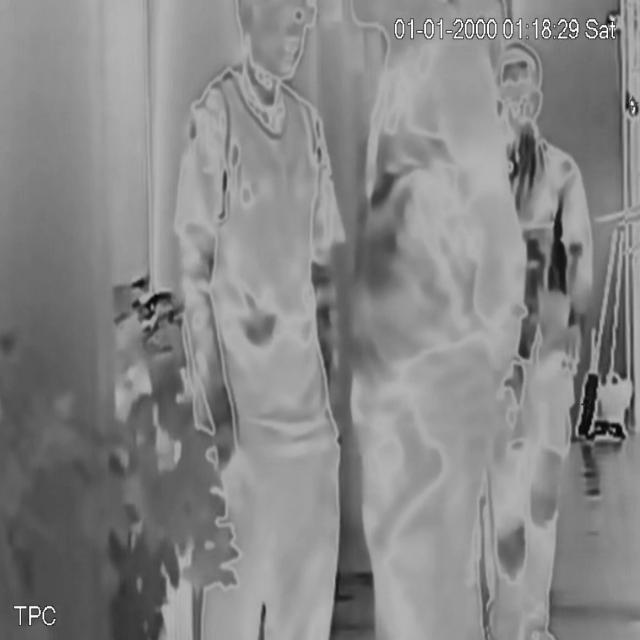Weapon: (360, 394, 446, 557)
